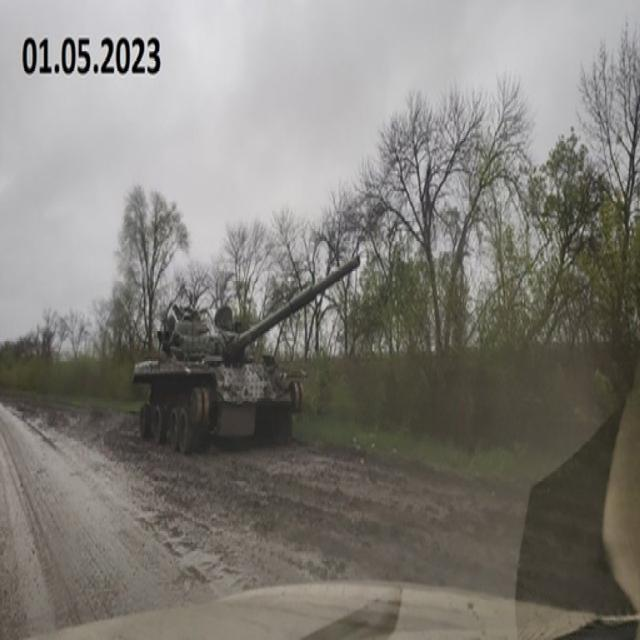TANK: (132, 251, 362, 453)
